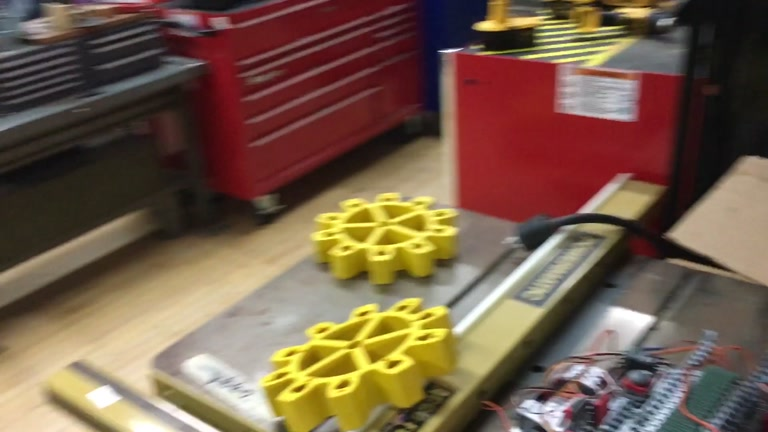gear: (265, 298, 456, 432), (309, 190, 459, 286)
